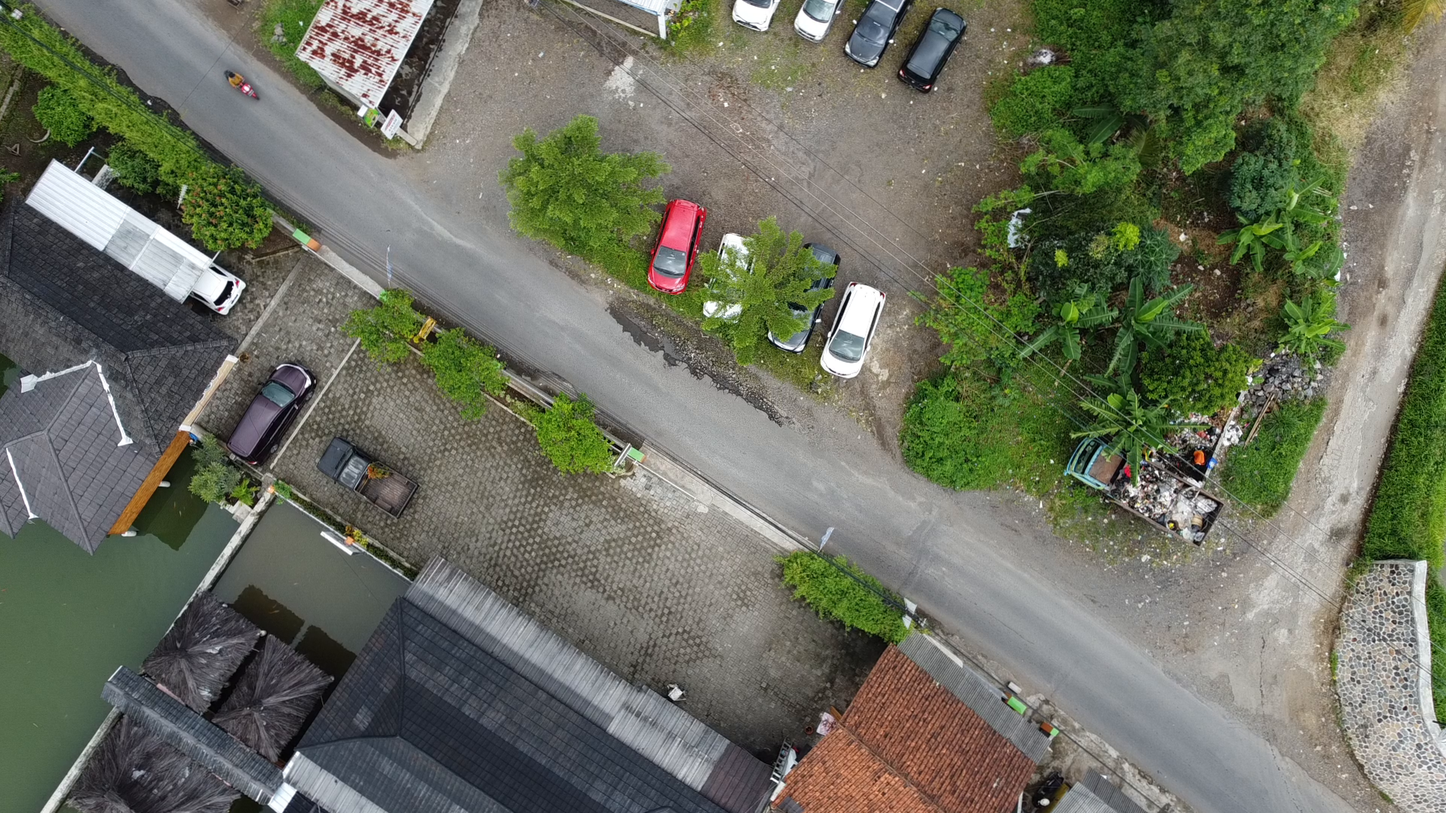mobil: (312, 428, 424, 528), (226, 360, 323, 461), (761, 238, 843, 354), (827, 274, 901, 388), (702, 222, 760, 342), (904, 5, 970, 109), (841, 4, 920, 81), (647, 195, 702, 297), (186, 257, 253, 321)
